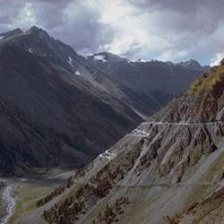neutral: (3, 17, 223, 224)
